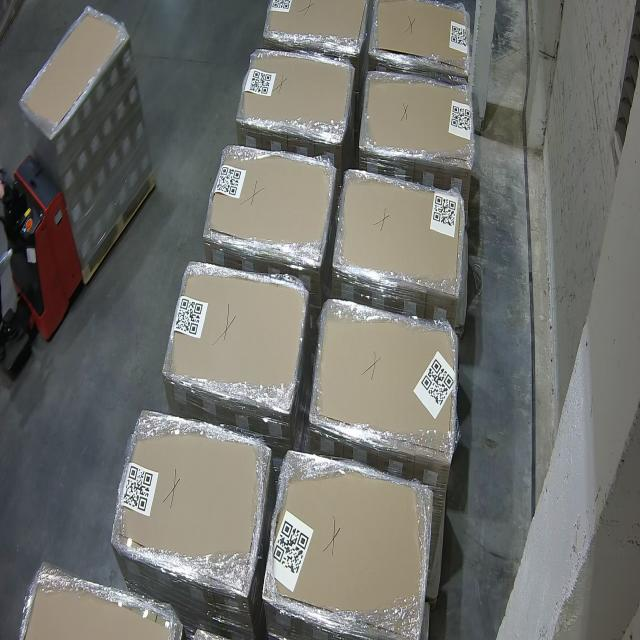pallet: (16, 0, 129, 140)
